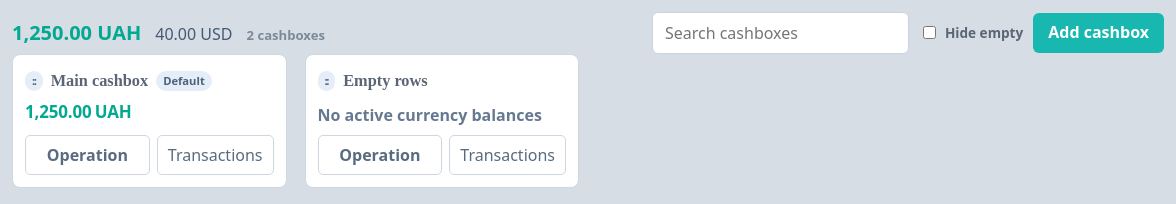
AccountingCashboxesView › treats cashboxes with no currency rows as empty
The image size is (1176, 204).
Click the checkbox labelled "Hide empty": point(929, 33) [923,26,936,40]
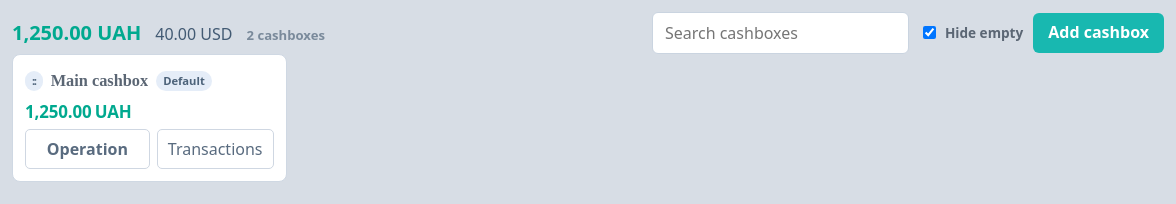
Expected: the heading titled "Main cashbox" is shown, [51,69,148,93]
Expected: the heading titled "Empty rows" is gone
